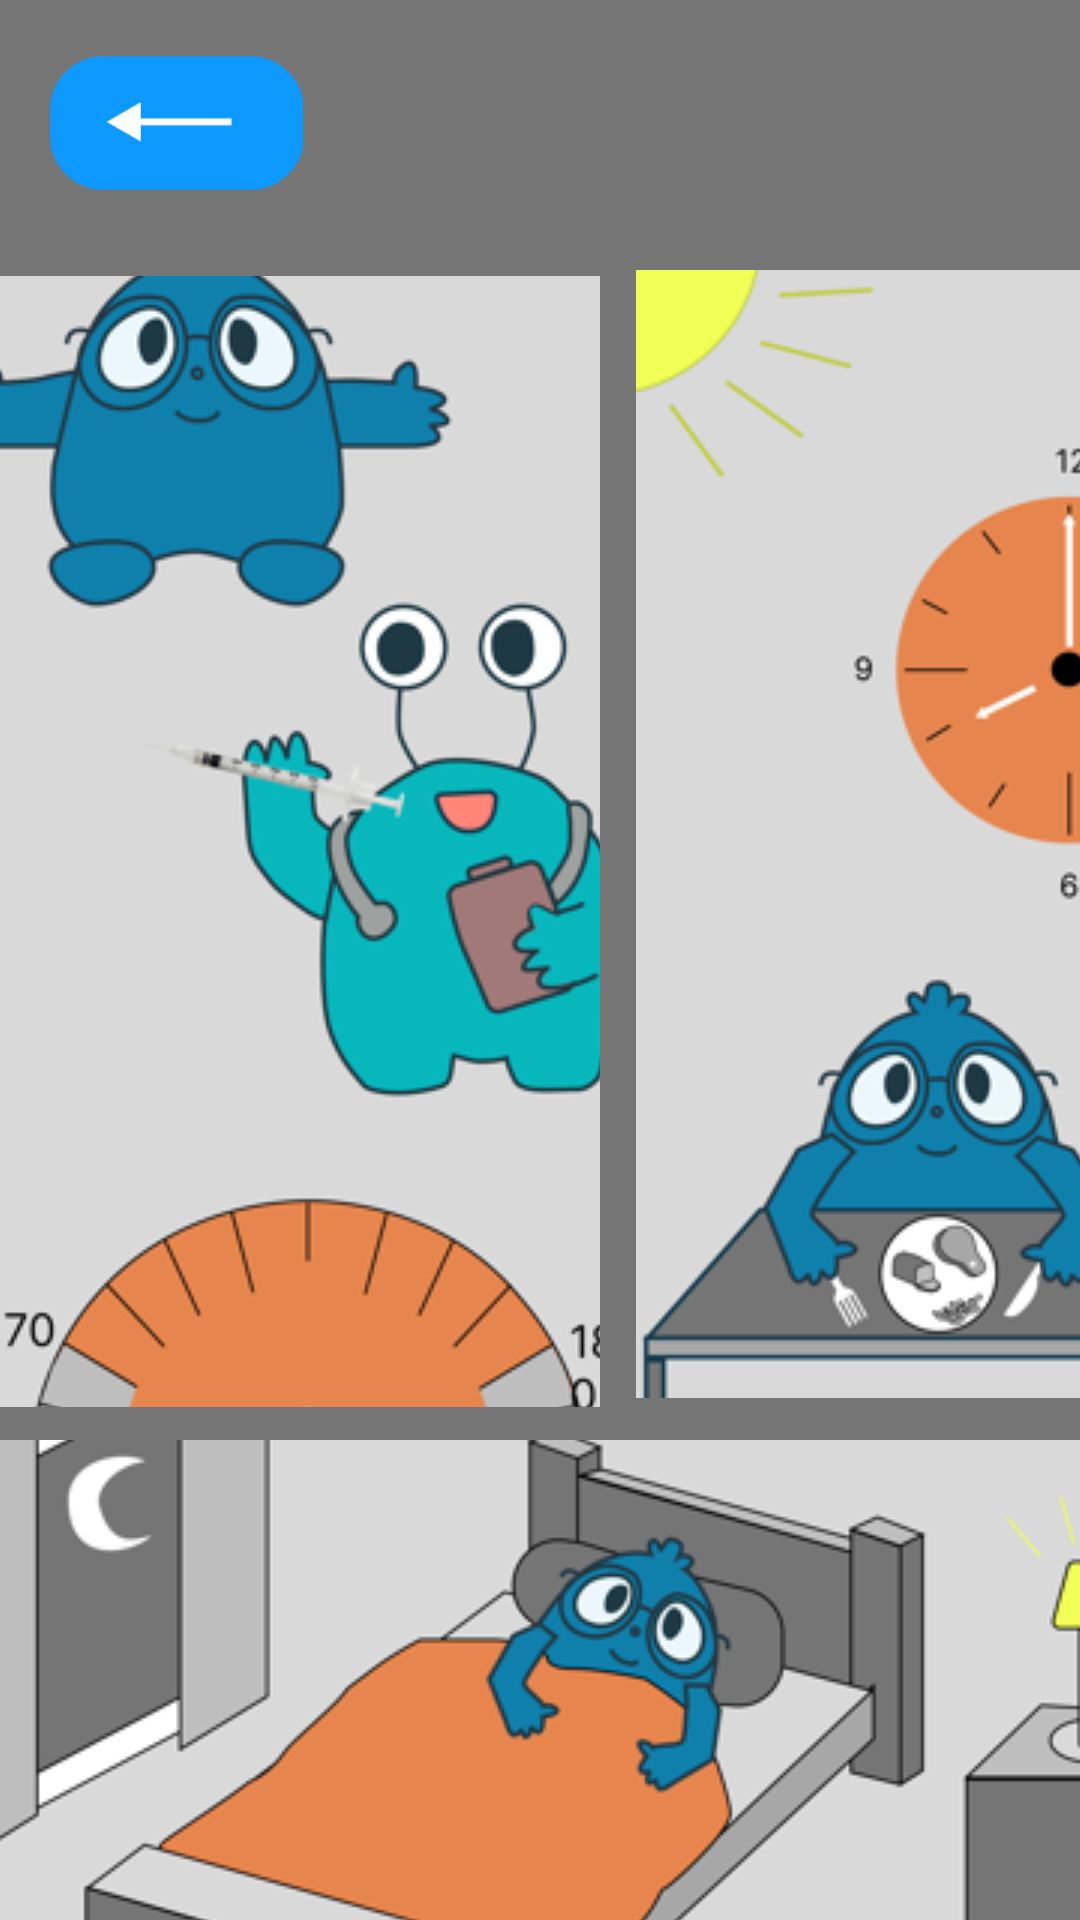

Where to tap for icons on this 1080px x 1920px app screen, as [x,y]:
Back Button: [176,123]
